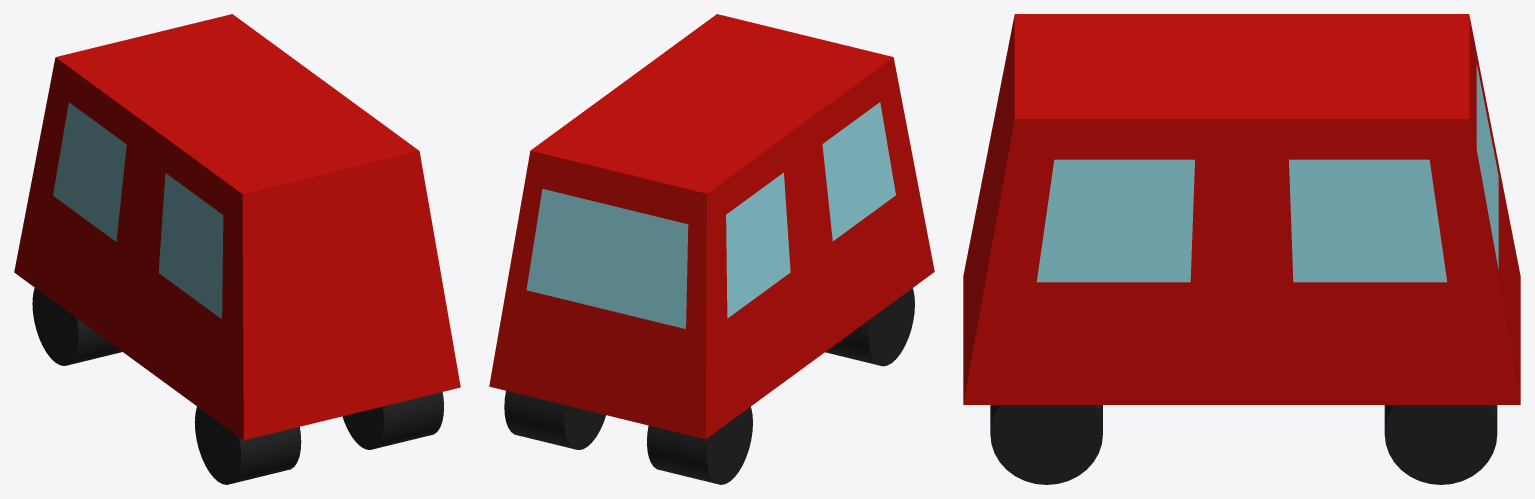
The model's file is car.fbx.
The picture shows the model from 3 angles, left to right: view 1: azimuth 30°, elevation 25°; view 2: azimuth 150°, elevation 25°; view 3: azimuth 270°, elevation 25°; orthographic projection. The views are drawn at different scales.
Visible parts, largest first — view 1: Cylinder.003; view 2: Cylinder.003; view 3: Cylinder.003.
Part boxes in pixels (x1=…): Cylinder.003: x1=14, y1=14, x2=460, y2=484; Cylinder.003: x1=489, y1=14, x2=934, y2=484; Cylinder.003: x1=963, y1=14, x2=1520, y2=484.
Size of the model in its own units: 109 by 142 by 200.
